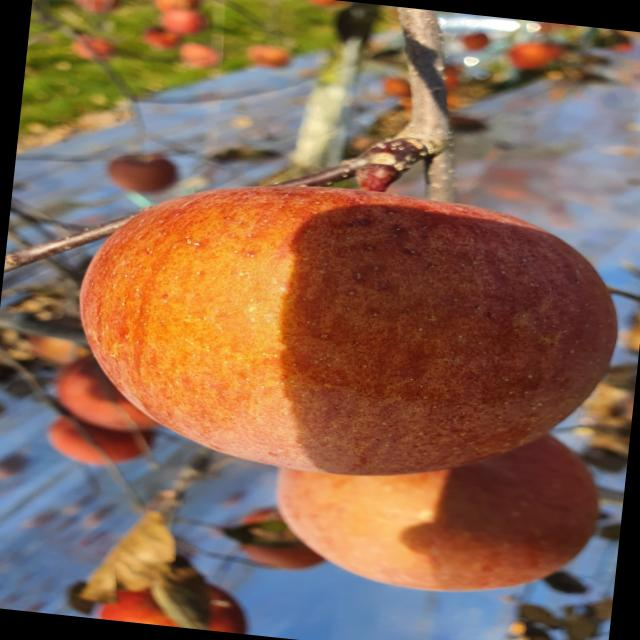fresh: (49, 149, 640, 505)
